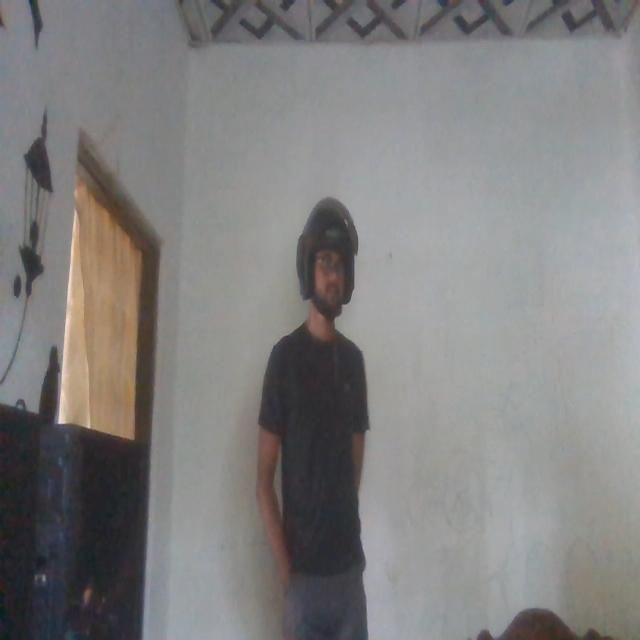Helmet_Wearer: (285, 189, 371, 330)
Person: (254, 186, 369, 640)
